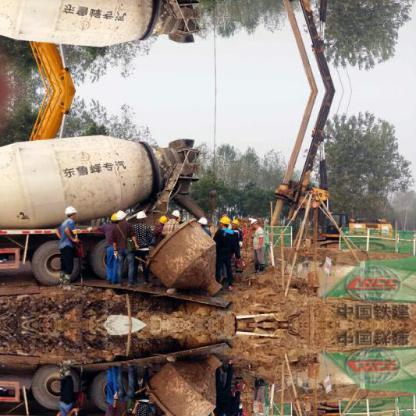Helmet: (62, 202, 76, 220), (216, 214, 230, 230), (113, 208, 125, 222), (136, 209, 146, 223), (157, 213, 167, 227), (170, 206, 180, 220), (249, 216, 260, 228), (107, 212, 117, 224), (198, 214, 206, 228)
